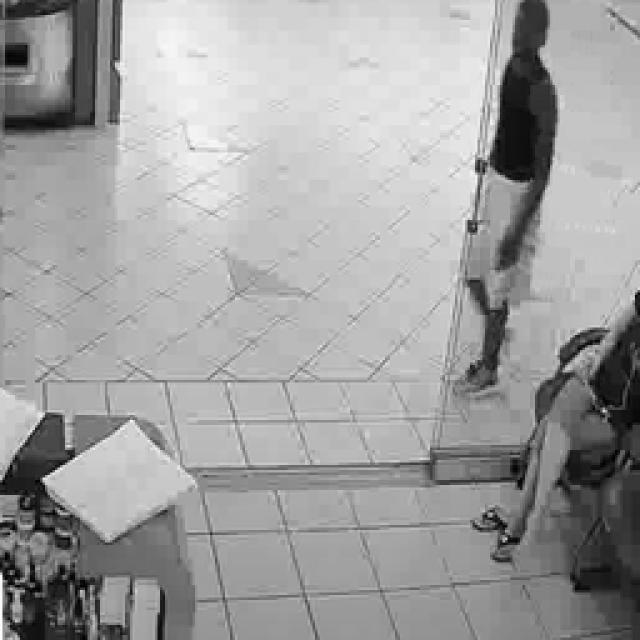Invader: (469, 285, 640, 560), (450, 0, 558, 395)
